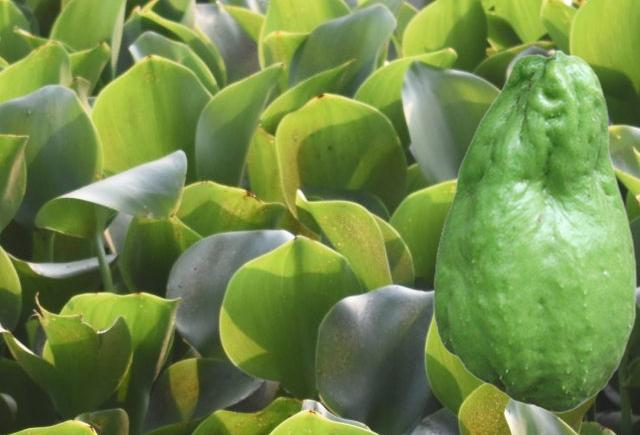sayote: (432, 49, 636, 412)
